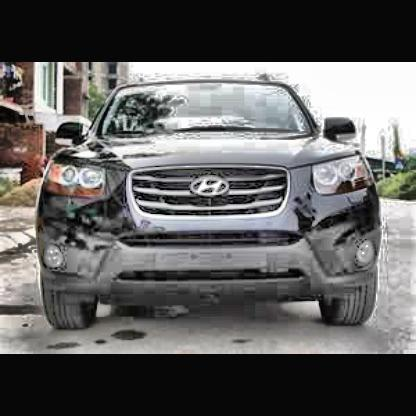Hyundai Santa Fe SUV 2012: (35, 74, 383, 330)
